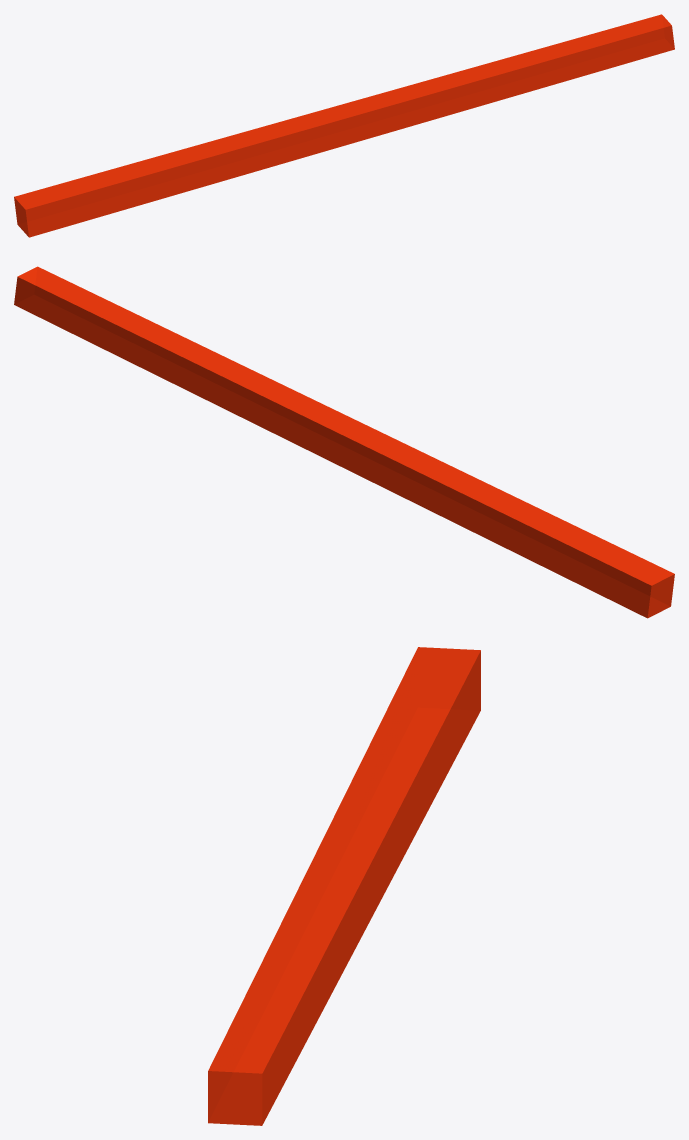
Rendered from Event_421115418_EErechit_60.fbx.
3 views of the same model, one above another, from view 1: azimuth 30°, elevation 25°; view 2: azimuth 150°, elevation 25°; view 3: azimuth 270°, elevation 25° (orthographic). The views are drawn at different scales.
Parts seen in each view (by area): view 1: Model; view 2: Model; view 3: Model.
Boxes of the visible parts, <box> form: Model: <box>14,14,674,237</box>; Model: <box>14,266,674,618</box>; Model: <box>208,647,480,1125</box>.
Bounding box in the file's own units: 1.83 × 0.3117 × 0.3609.
